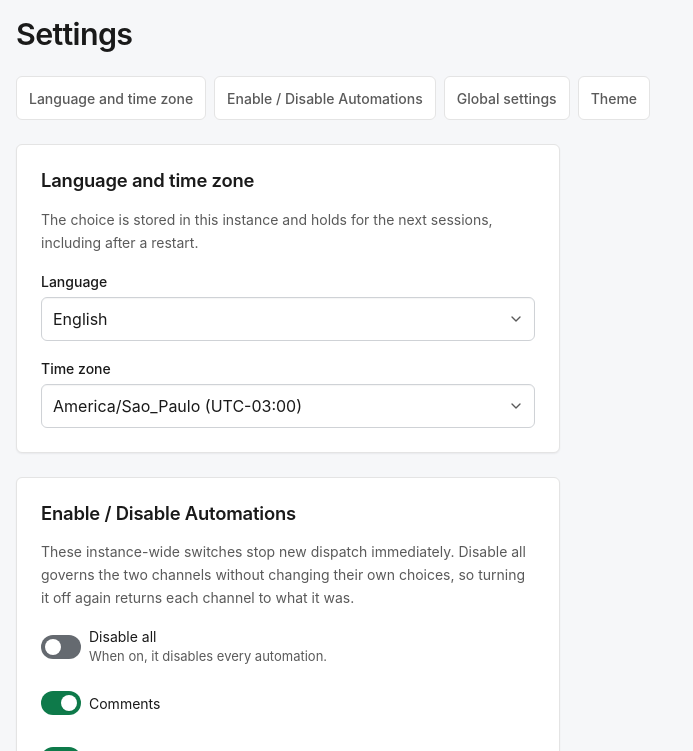
Test: REQ-102: the language of the interface is a setting of the instance › stores the choice in the instance and then renders in it
This screenshot has width=693, height=751.
Select "português (Brasil)" in the dropdown labelled "Language" at (288, 319), box [41, 297, 535, 341]
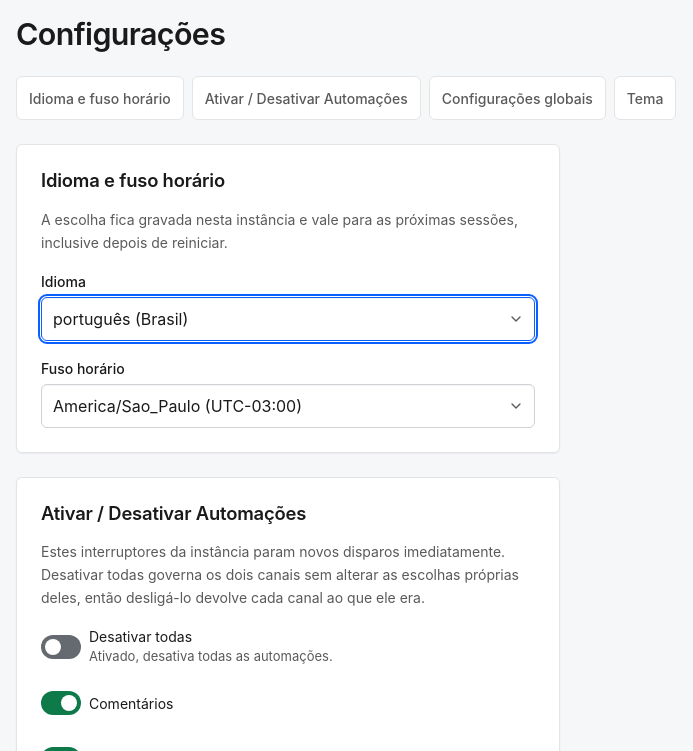
Check: the heading "Configurações" is shown, box [16, 16, 225, 52]
